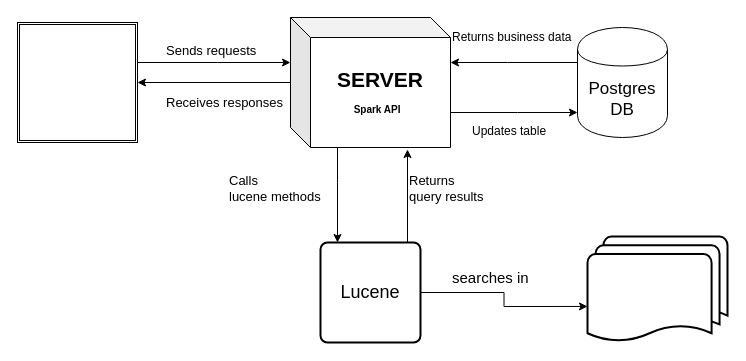
Image size: 746x361. Some labels were removed from this diagram. Here are the shapes that lost their labels. From the top down, the centre of each, then its label:
point (77, 82): UI html, js, css
point (657, 289): Lucene Indexes
